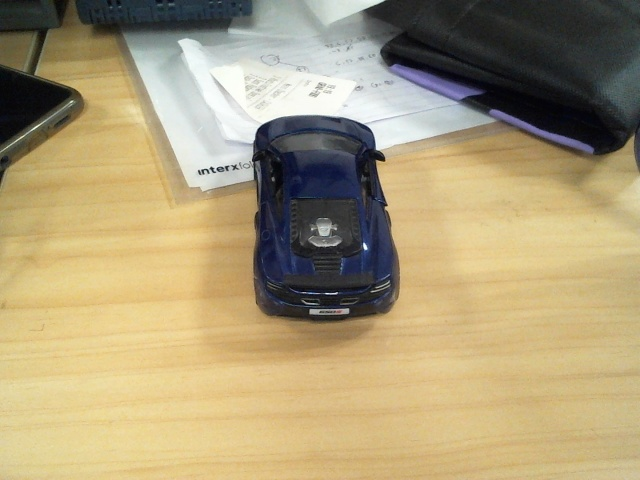car: (251, 114, 401, 322)
